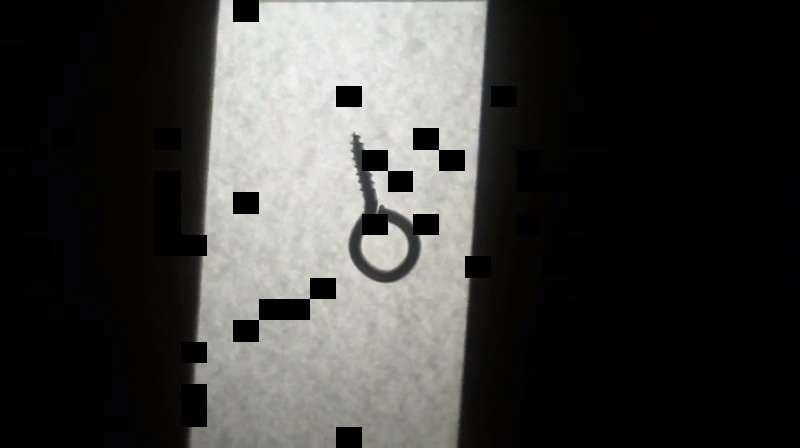O001: (343, 129, 425, 284)
